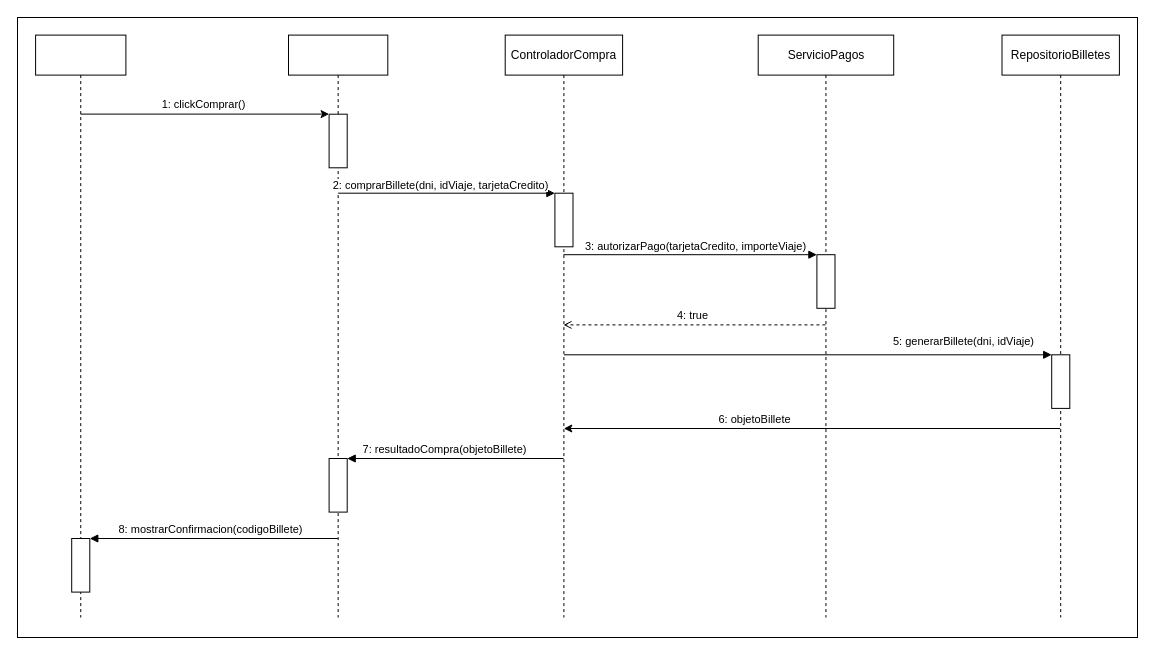
Image size: 1155x655. Some labels were removed from this diagram. The box of each missing label's shape, as (x1, y1, x2, y2) in pixels:
NavegadorWeb: (288, 34, 388, 618)
Usuario: (35, 34, 126, 618)
